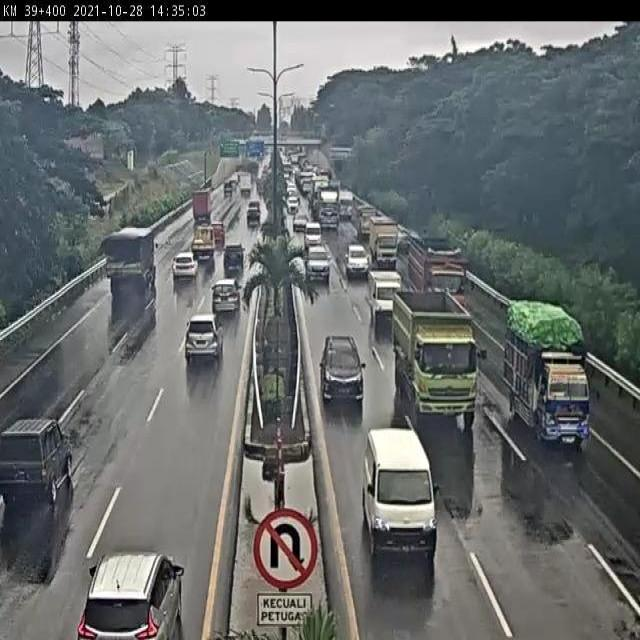big truck: (391, 293, 491, 435), (93, 223, 159, 300), (403, 238, 473, 298)
car: (356, 423, 442, 576), (75, 546, 192, 640), (0, 407, 81, 512), (312, 325, 369, 420), (178, 307, 224, 376), (368, 264, 400, 328), (208, 272, 247, 321), (305, 250, 337, 290), (345, 237, 370, 283), (171, 251, 200, 285), (225, 241, 245, 276)
small truck: (505, 290, 603, 470), (373, 215, 401, 273), (191, 220, 218, 271)
